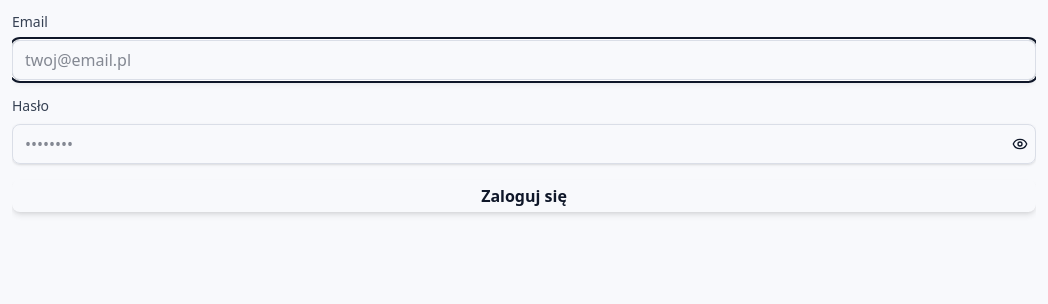
Test: LoginForm › Error Handling › should show error message for 503 Service Unavailable
This screenshot has width=1048, height=304.
Type "test@example.com" into the field labelled "Email" at (524,60), box [12,40,1036,80]
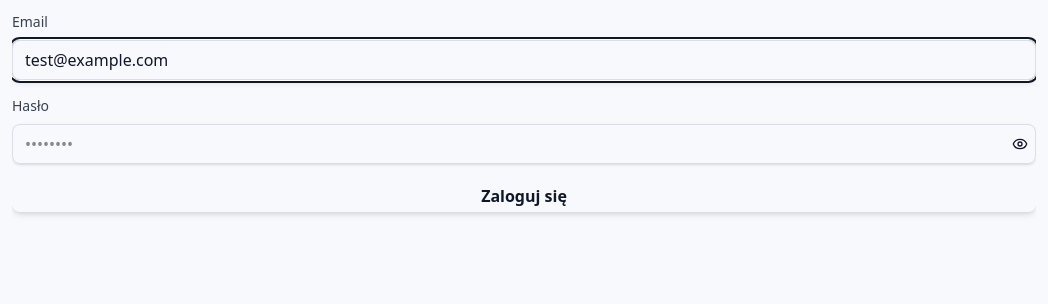
Type "password123" into the password field labelled "Hasło" at (524,144), box [12,124,1036,164]
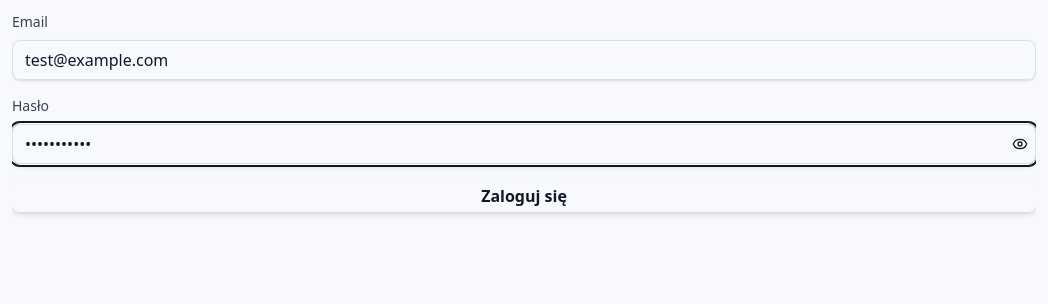
Click the button "Zaloguj się" at (524,196), box [12,180,1036,212]
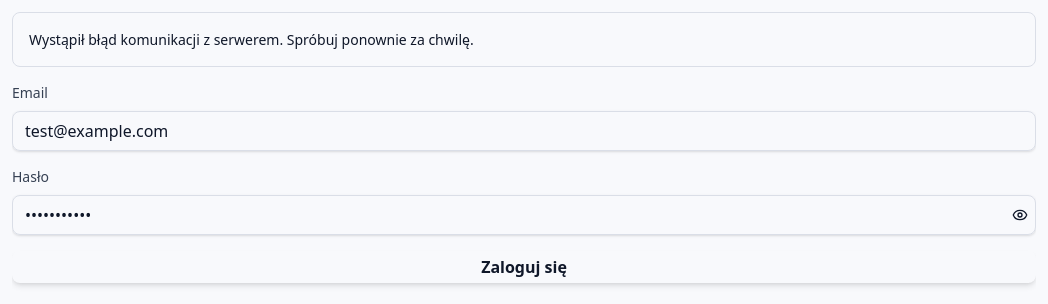
Expected: the text "Wystąpił błąd komunikacji z serwerem. Spróbuj ponownie za chwilę." is shown, [29,30,474,49]
